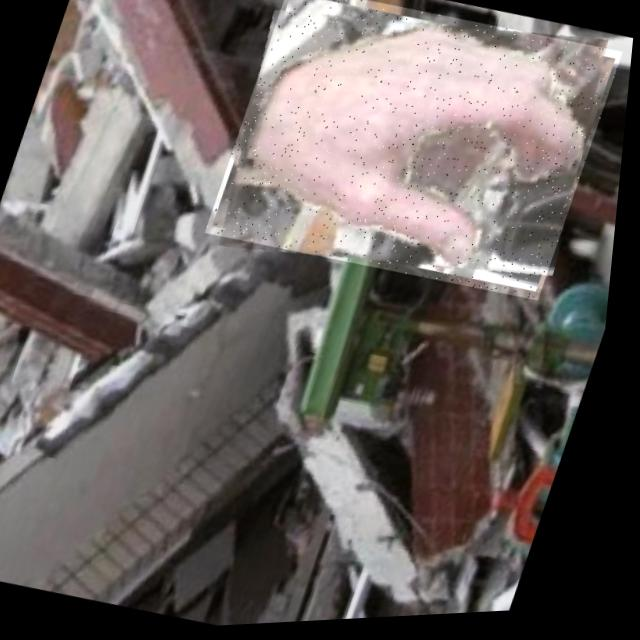Person in Rubble: (202, 0, 630, 320)
